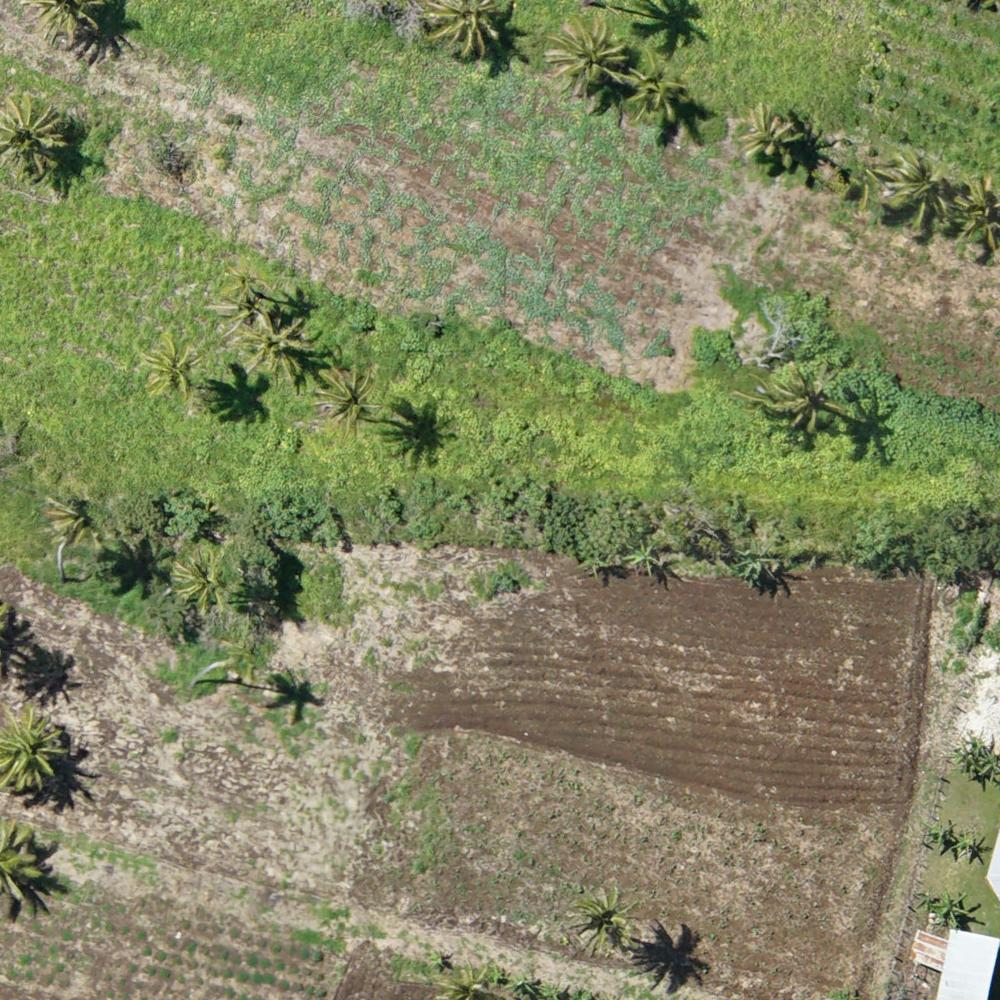Palm: (542, 19, 626, 98), (1, 90, 69, 176), (887, 151, 961, 226), (1, 715, 69, 790), (769, 360, 840, 431), (236, 315, 313, 378), (139, 330, 207, 394), (626, 57, 691, 123), (737, 101, 802, 165), (315, 366, 378, 430), (169, 549, 232, 612), (576, 891, 640, 950)
